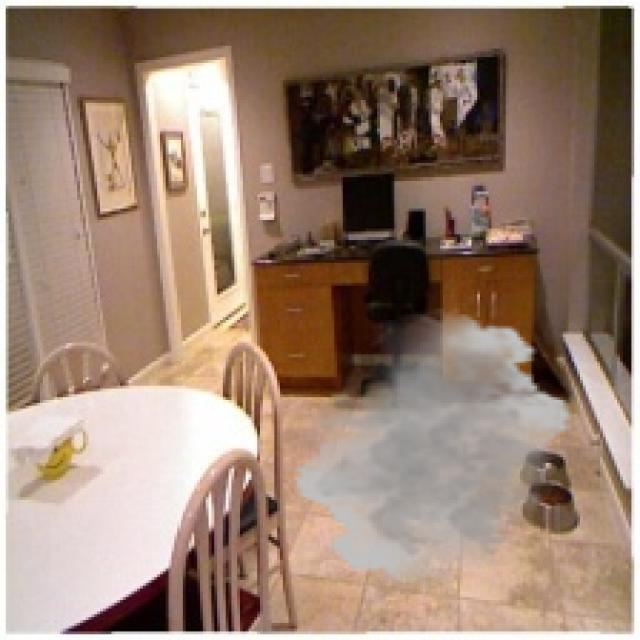Smoke: (292, 308, 574, 588)
